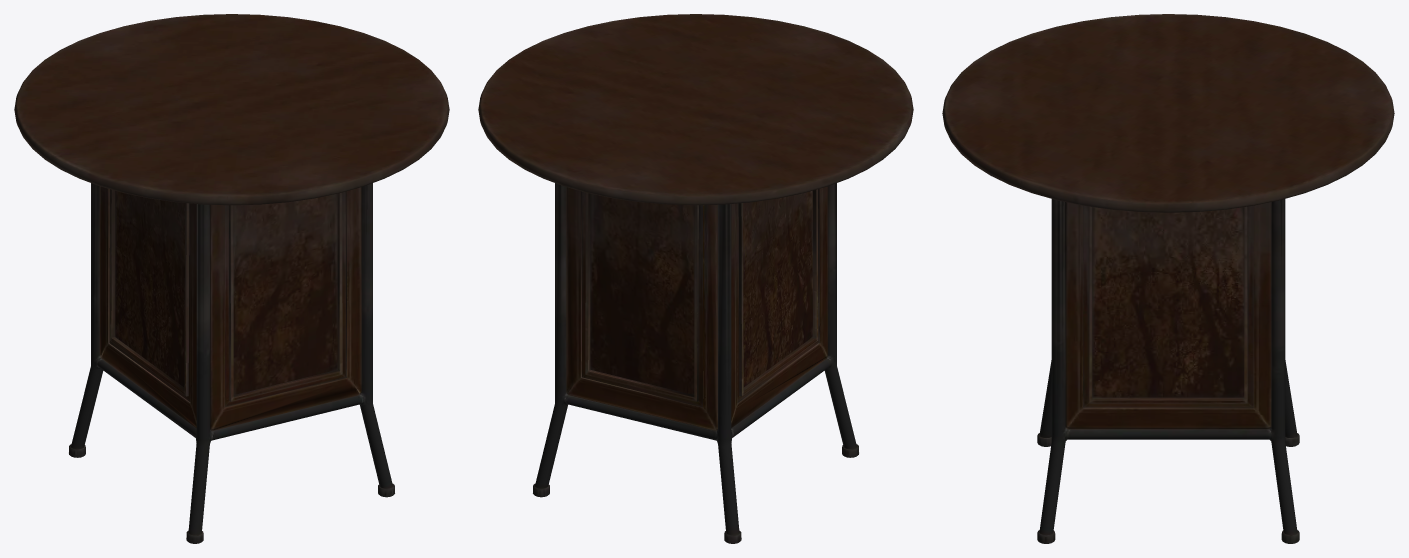
Rendered from 4fd0b237-9527-45d5-b82a-4cfec427f673.glb.
3 views of the same model, side by side, from view 1: azimuth 30°, elevation 25°; view 2: azimuth 150°, elevation 25°; view 3: azimuth 270°, elevation 25° (orthographic). The views are drawn at different scales.
Visible parts, largest first — view 1: round_wooden_table_02; view 2: round_wooden_table_02; view 3: round_wooden_table_02.
Boxes of the visible parts, x1,y1,x2,y2 form: round_wooden_table_02: [14, 14, 449, 543]; round_wooden_table_02: [478, 14, 913, 543]; round_wooden_table_02: [942, 14, 1394, 543].
Size of the model in its own units: 0.7962 by 0.746 by 0.7962.
1 material, 1 textured.
